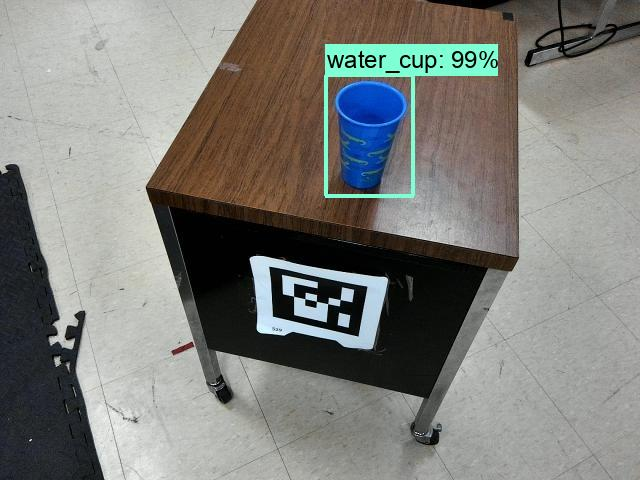water_cup: (326, 78, 410, 191)
